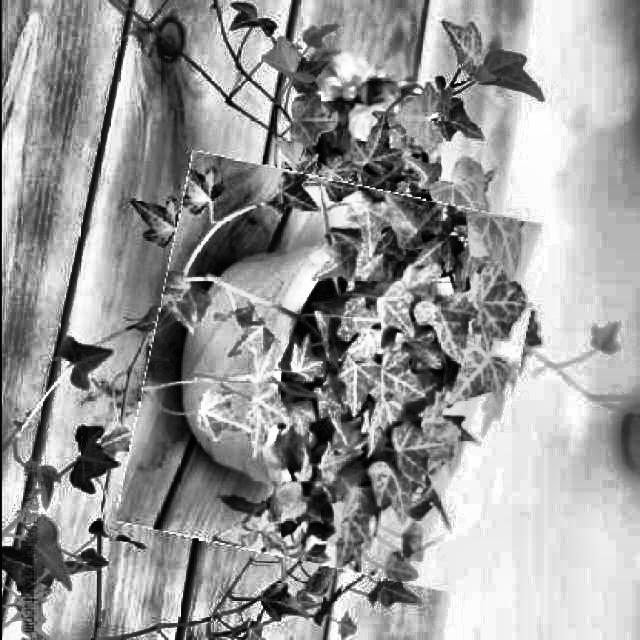plants: (130, 168, 528, 580)
